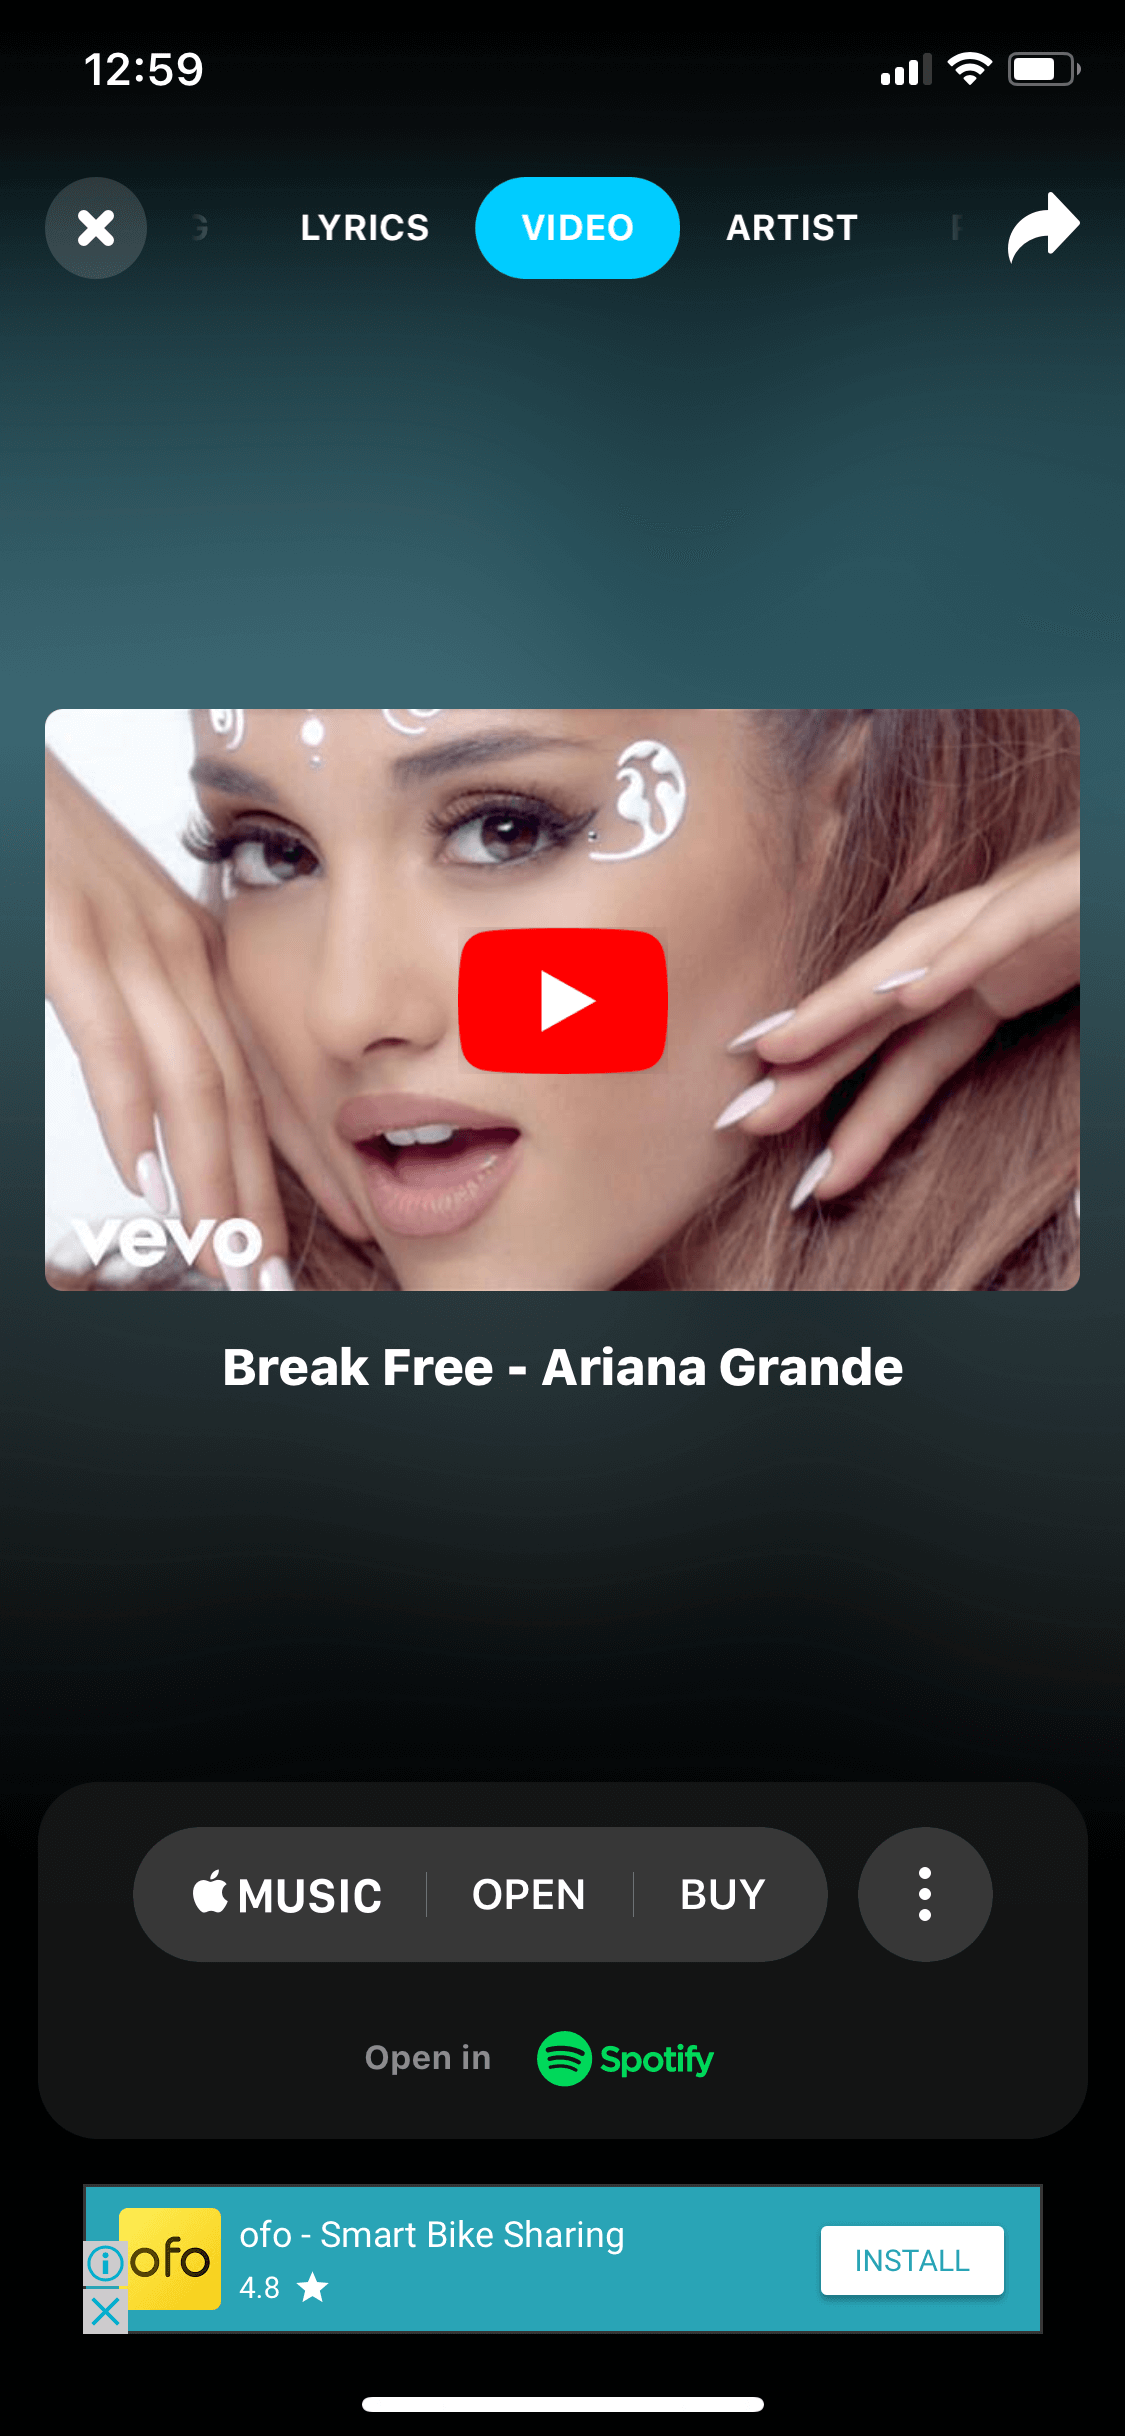Buttons: (124, 1808, 827, 1979), (842, 1807, 1012, 1979), (813, 2220, 1019, 2312), (959, 171, 1106, 291), (36, 169, 158, 292)
